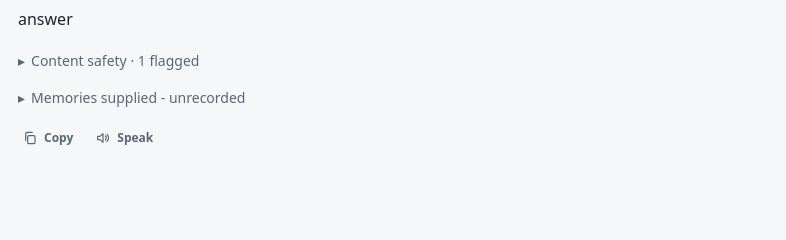
it: MessageList content-safety panel › falls back to the raw category name for an unknown filter
The image size is (786, 240).
# A newly added Foundry filter must still surface rather than vanish.
Click the heading "Content safety · 1 flagged": [115, 61] box [31,51,199,70]
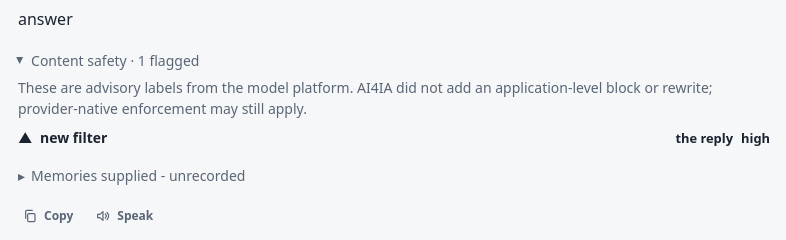
Expected: the text "new filter" is shown, [40,128,108,147]
